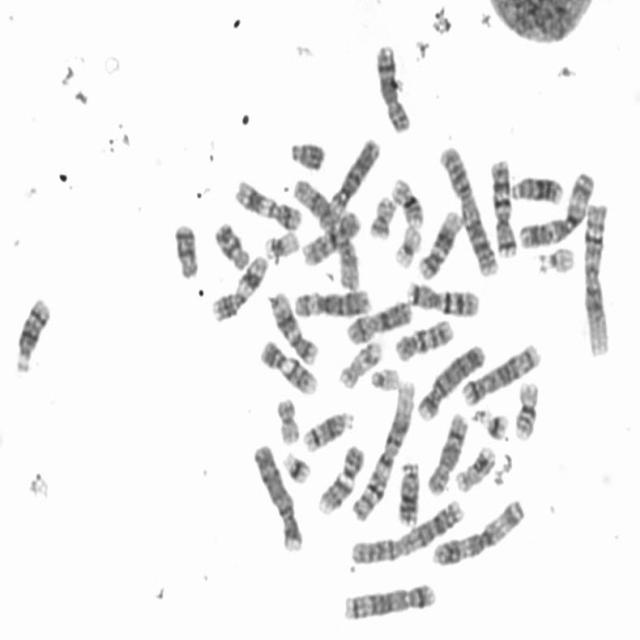A1: (347, 372, 418, 523), (578, 194, 614, 359)
A2: (434, 140, 501, 278), (345, 492, 467, 566)
A3: (426, 492, 528, 568), (514, 163, 597, 250)
B4: (248, 436, 305, 554), (413, 336, 488, 423)
B5: (458, 336, 543, 406), (339, 576, 438, 622)
C10: (296, 203, 363, 268), (390, 312, 456, 363)
C11: (206, 248, 270, 324), (230, 172, 305, 232)
C12: (264, 284, 320, 367), (414, 204, 465, 282)
C6: (323, 131, 382, 216), (289, 281, 373, 319)
C7: (402, 273, 481, 318), (486, 151, 518, 258)
C8: (421, 405, 471, 497), (370, 38, 413, 134)
C9: (255, 333, 320, 396), (313, 439, 366, 516)
D13: (506, 169, 565, 205), (393, 454, 422, 526)
D14: (10, 290, 52, 375), (298, 403, 357, 453)
D15: (286, 177, 348, 248), (332, 228, 366, 298)
E16: (386, 170, 426, 228), (509, 374, 541, 442)
E17: (333, 334, 384, 390), (450, 440, 498, 494)
E18: (209, 214, 252, 272), (169, 217, 200, 280)
F19: (388, 218, 423, 270), (258, 224, 302, 262)
F20: (364, 189, 397, 241), (272, 391, 302, 445)
G21: (278, 445, 313, 486), (473, 404, 510, 441)
G22: (532, 240, 577, 275), (365, 361, 402, 392)
X: (342, 294, 414, 346)
Y: (285, 134, 327, 172)
